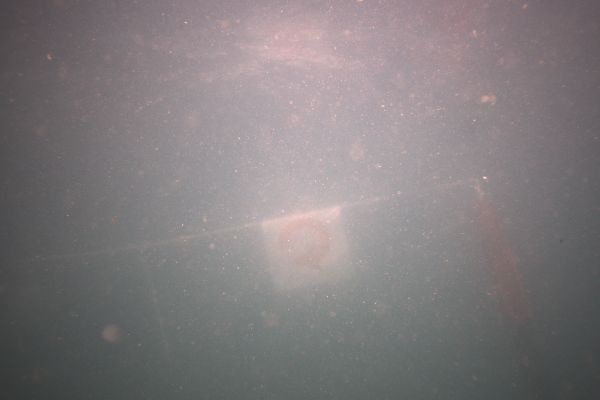gate: (0, 180, 556, 400)
gate_rouge: (262, 210, 354, 288)
